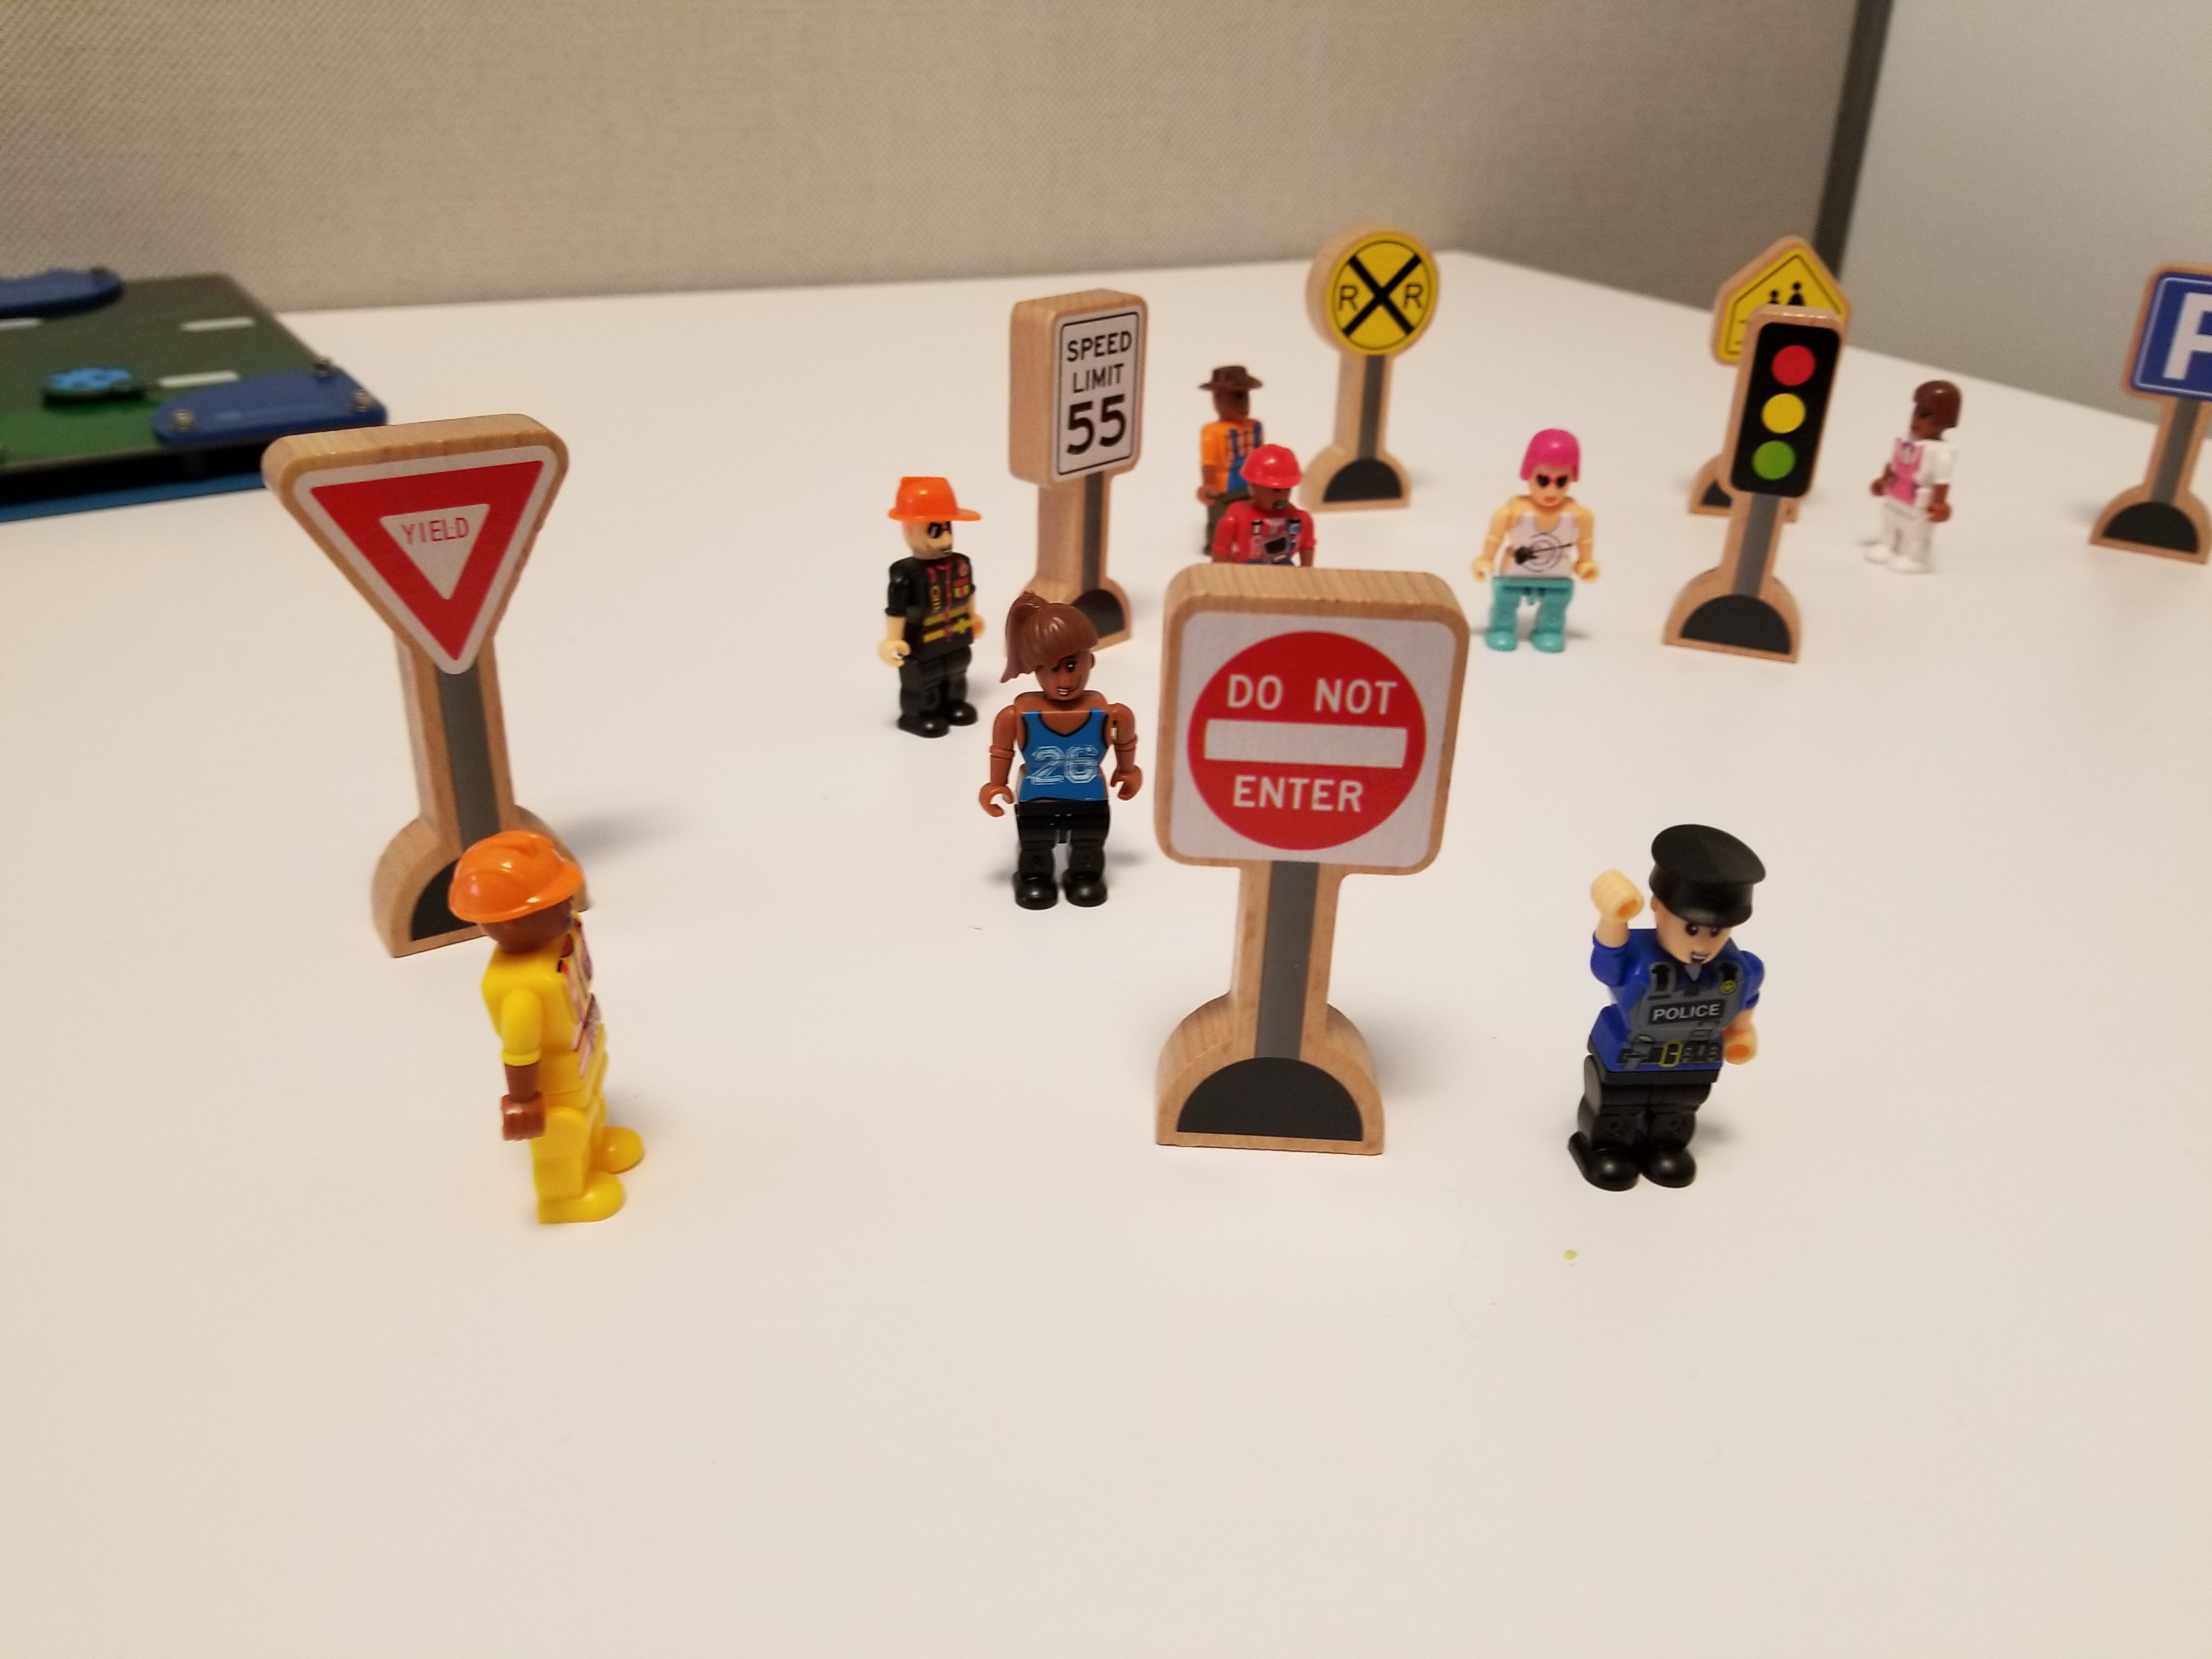Do not enter: (1149, 550, 1469, 1195)
Parking: (2097, 229, 2212, 539)
Railroad Crossing: (1300, 218, 1456, 526)
Speed limit 55: (997, 289, 1158, 574)
Traffic Light: (1717, 289, 1858, 703)
Yield: (251, 411, 644, 732)
person: (442, 828, 699, 1254), (1553, 806, 1801, 1234), (984, 574, 1133, 936), (864, 460, 1000, 749), (1487, 433, 1625, 701), (1873, 365, 2007, 613), (1184, 332, 1311, 550)
